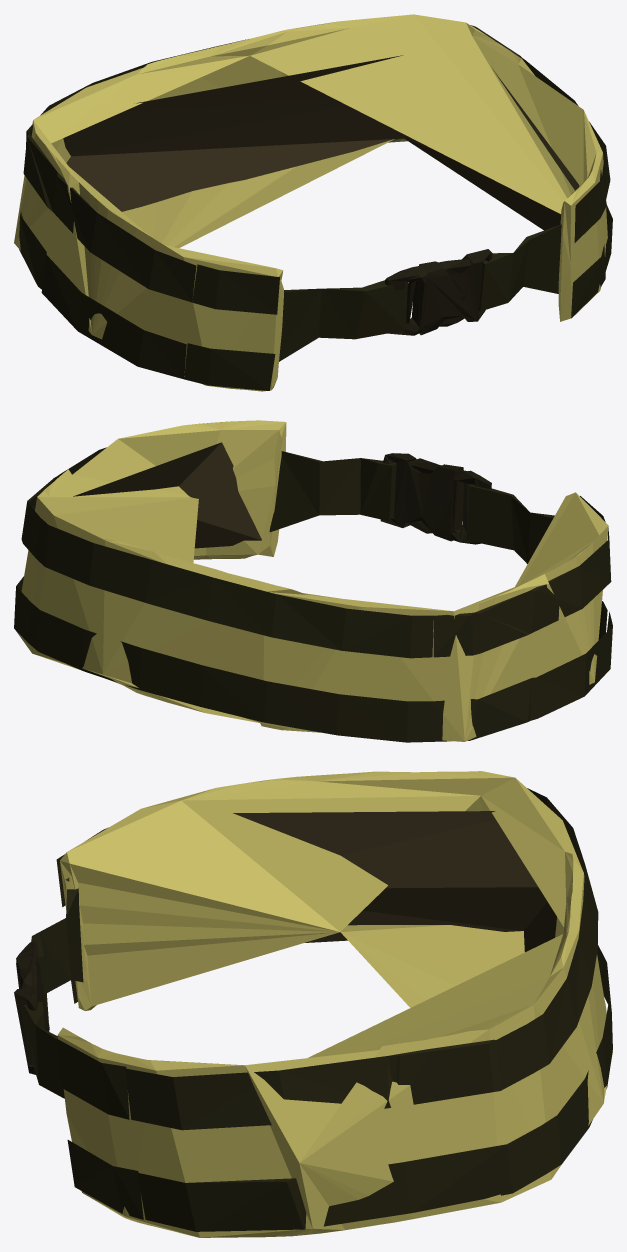
The model's file is Belt.obj.
The picture shows the model from 3 angles, top to bottom: view 1: azimuth 30°, elevation 25°; view 2: azimuth 150°, elevation 25°; view 3: azimuth 270°, elevation 25°; orthographic projection. The views are drawn at different scales.
Parts seen in each view (by area): view 1: Belt_camopouch, Belt_stapping1, Belt_mesh_padding.001, Belt_plastictan; view 2: Belt_stapping1, Belt_camopouch, Belt_mesh_padding.001, Belt_plastictan; view 3: Belt_camopouch, Belt_stapping1, Belt_mesh_padding.001, Belt_plastictan.
Boxes of the visible parts, x1,y1,x2,y2 form: Belt_camopouch: (14,14,607,391); Belt_stapping1: (19,25,612,390); Belt_mesh_padding.001: (63,55,579,230); Belt_plastictan: (385,249,492,335); Belt_stapping1: (14,447,612,742); Belt_camopouch: (15,420,608,741); Belt_mesh_padding.001: (73,442,261,548); Belt_plastictan: (380,453,491,544); Belt_camopouch: (57,771,612,1237); Belt_stapping1: (24,788,612,1231); Belt_mesh_padding.001: (65,811,556,952); Belt_plastictan: (14,941,49,1074).
Bounding box in the file's own units: 0.3785 × 0.1191 × 0.3087.
